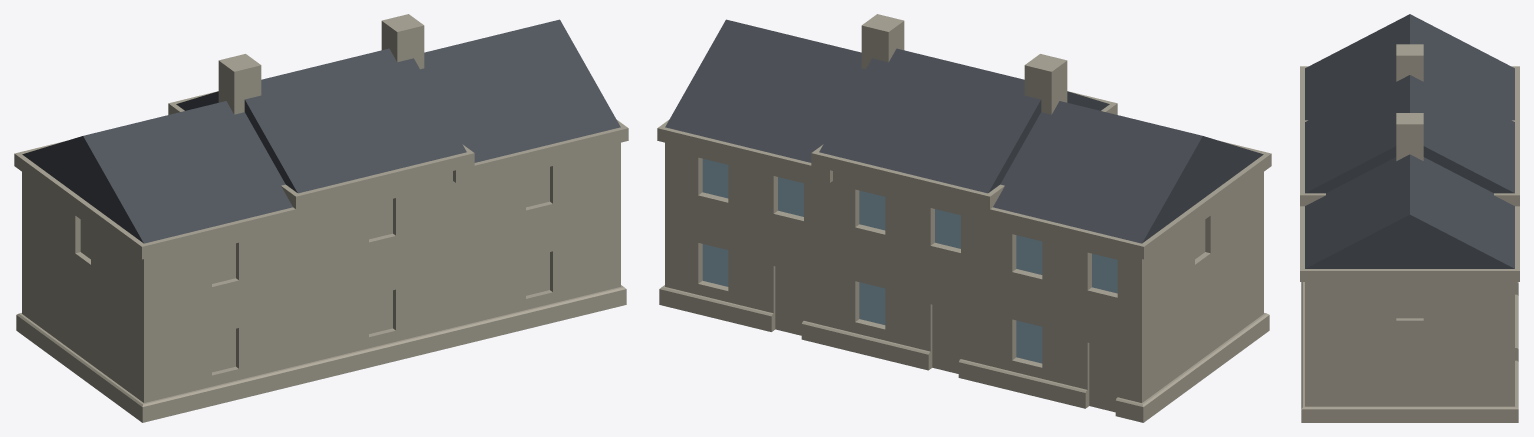
The picture shows the model from 3 angles, left to right: view 1: azimuth 30°, elevation 25°; view 2: azimuth 150°, elevation 25°; view 3: azimuth 270°, elevation 25°; orthographic projection. The views are drawn at different scales.
Parts seen in each view (by area): view 1: body_stone, roof_slate, trim_stone; view 2: body_stone, roof_slate, trim_stone, glass_glass (×9); view 3: roof_slate, body_stone, trim_stone.
Part boxes in pixels (box(x1,y1,x2,y2)): body_stone: box(22, 14, 620, 402); roof_slate: box(22, 19, 620, 243); trim_stone: box(14, 91, 628, 422); body_stone: box(665, 14, 1263, 412); roof_slate: box(665, 19, 1263, 243); trim_stone: box(657, 91, 1271, 422); glass_glass (×9): box(702, 158, 1117, 363); roof_slate: box(1305, 14, 1514, 268); body_stone: box(1305, 44, 1514, 406); trim_stone: box(1300, 66, 1519, 422).
Size of what is drawn, in the model's own units: 16.12 by 8.7 by 7.32.
